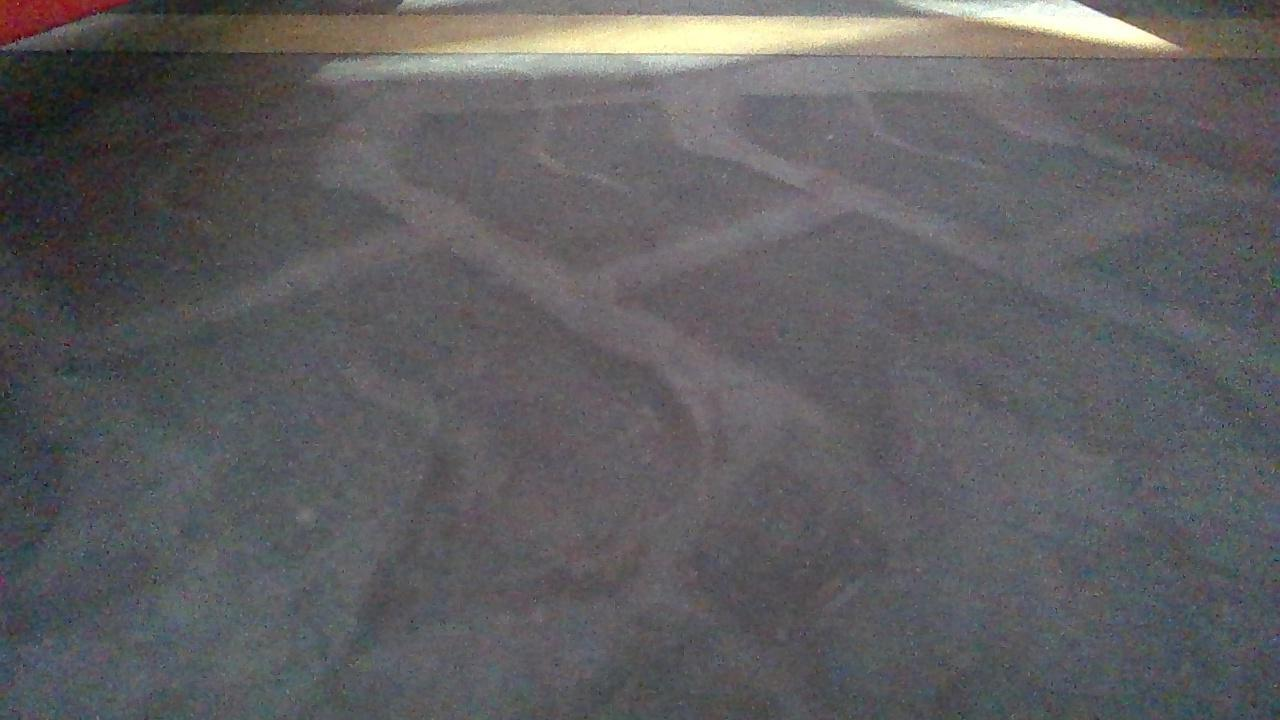yellow_line: (20, 8, 1280, 54)
